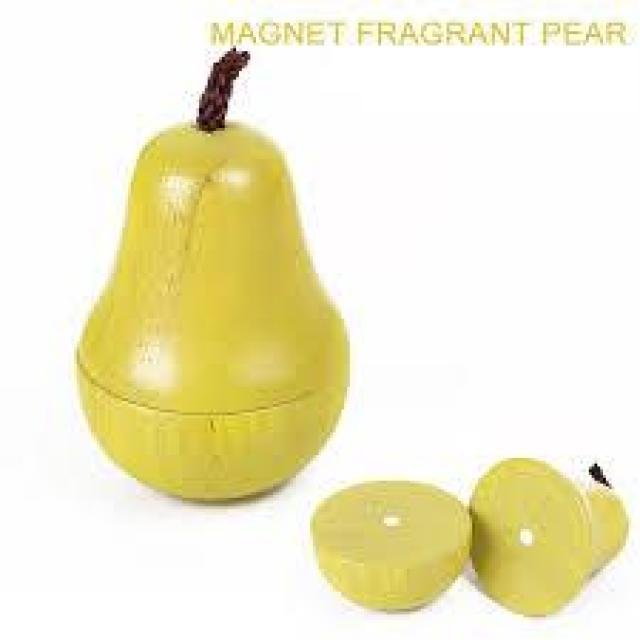organic: (74, 48, 353, 506), (307, 458, 631, 617)
